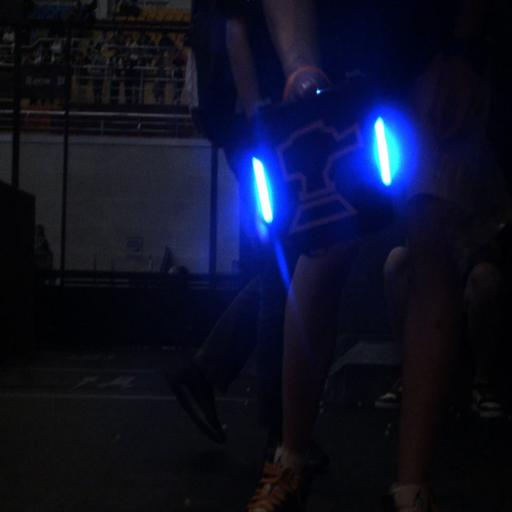target: (252, 99, 402, 244)
